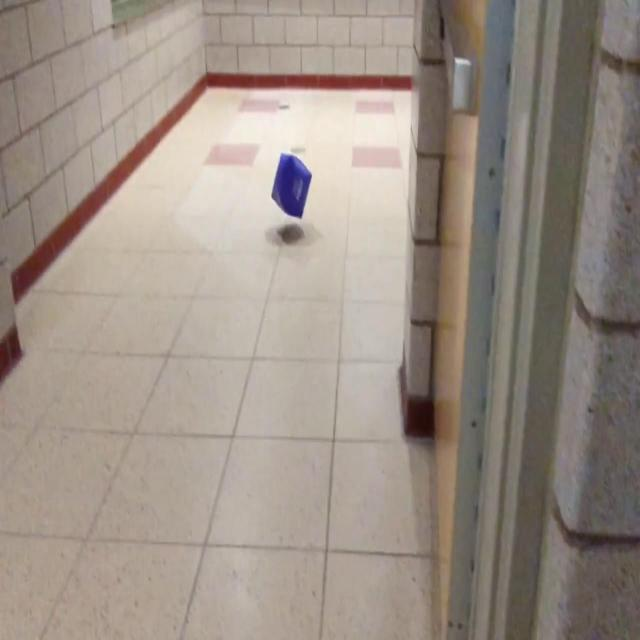frc_cube: (271, 152, 312, 220)
